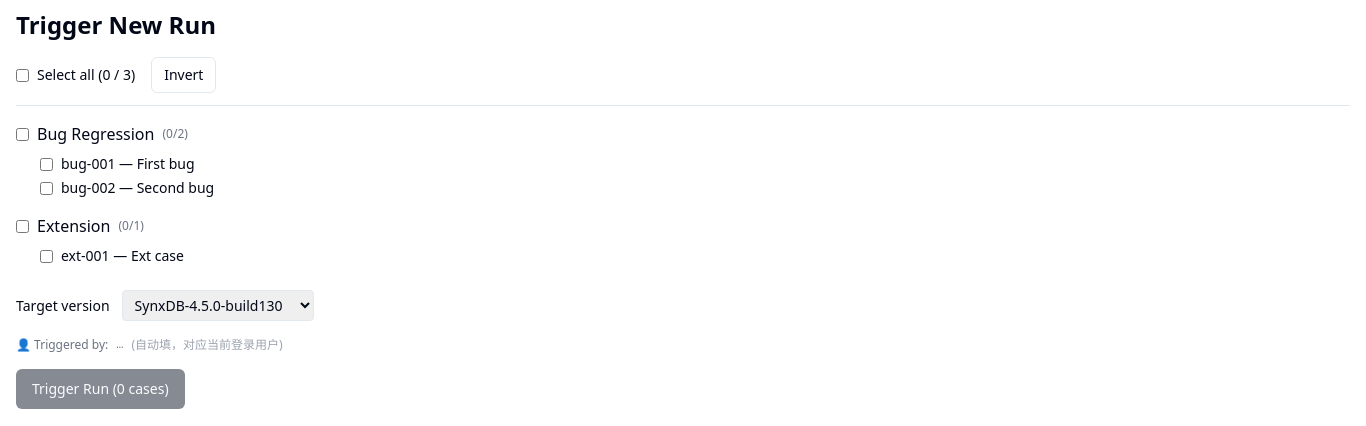
Test: RunNewPage › selecting a case enables submit button
Click the checkbox with test id "case-checkbox-bug-001" at {"x": 46, "y": 164}, box [40,158,53,170]
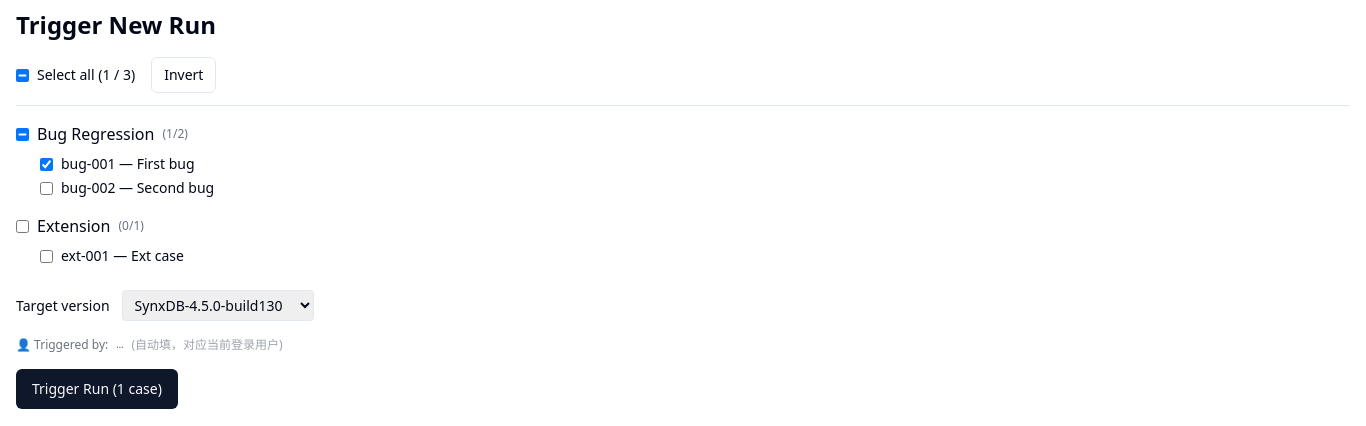
Check: the button with test id "btn-submit-run" is enabled, box [16,369,178,409]
